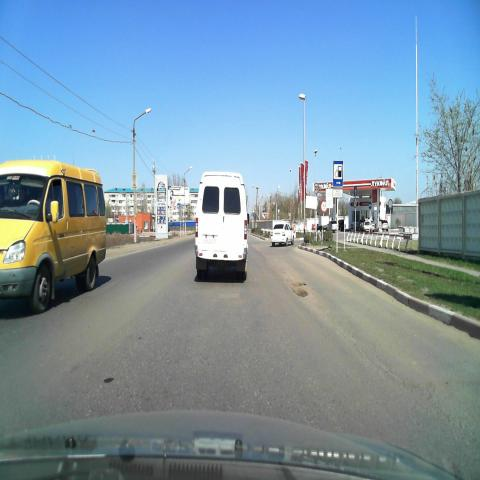7_3: (333, 161, 343, 187)
